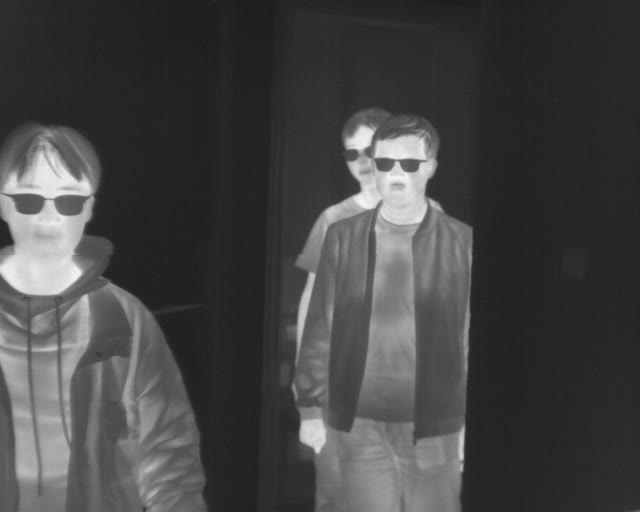face: (1, 119, 100, 269), (372, 114, 437, 206), (341, 107, 387, 186)
